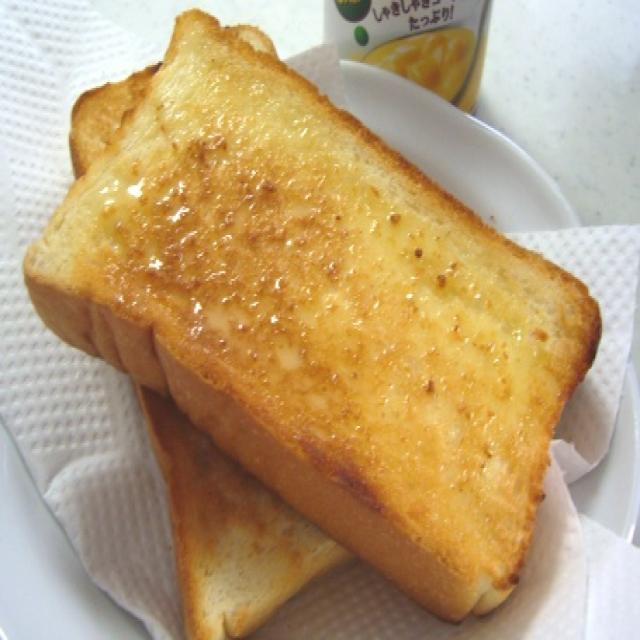面包点心: (22, 2, 595, 640)
